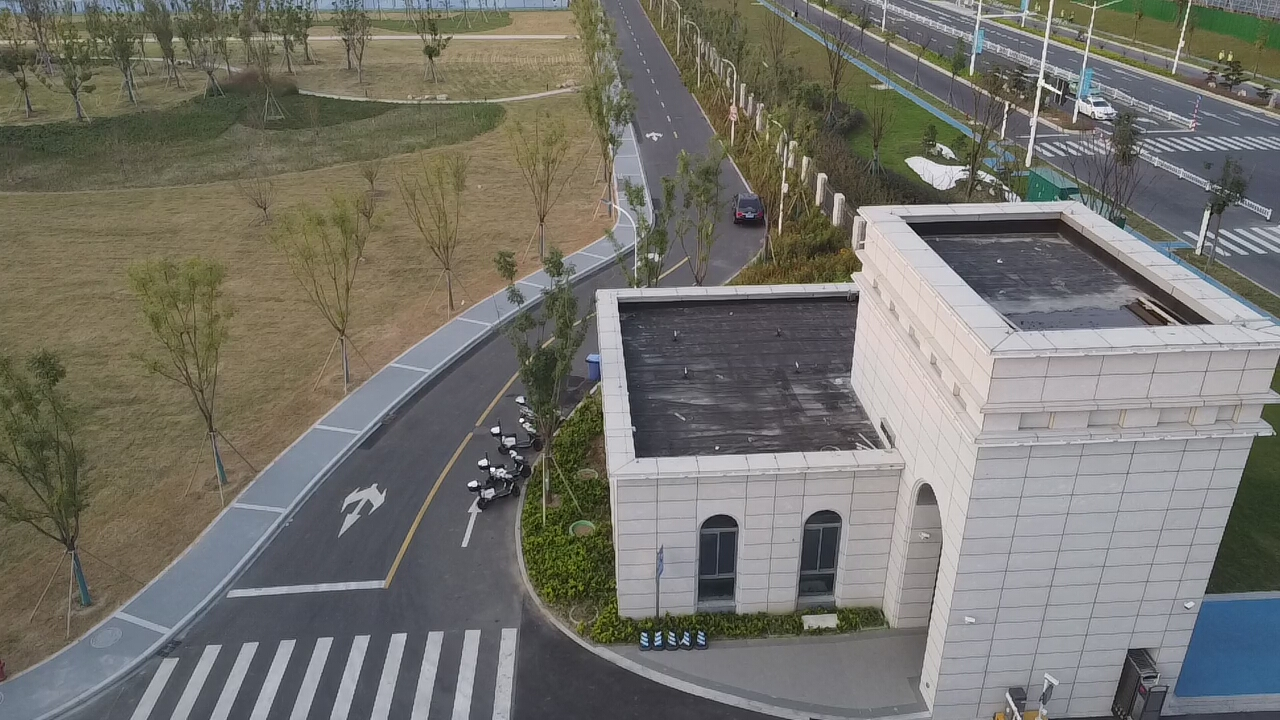car: (1066, 92, 1118, 119), (727, 185, 760, 221)
